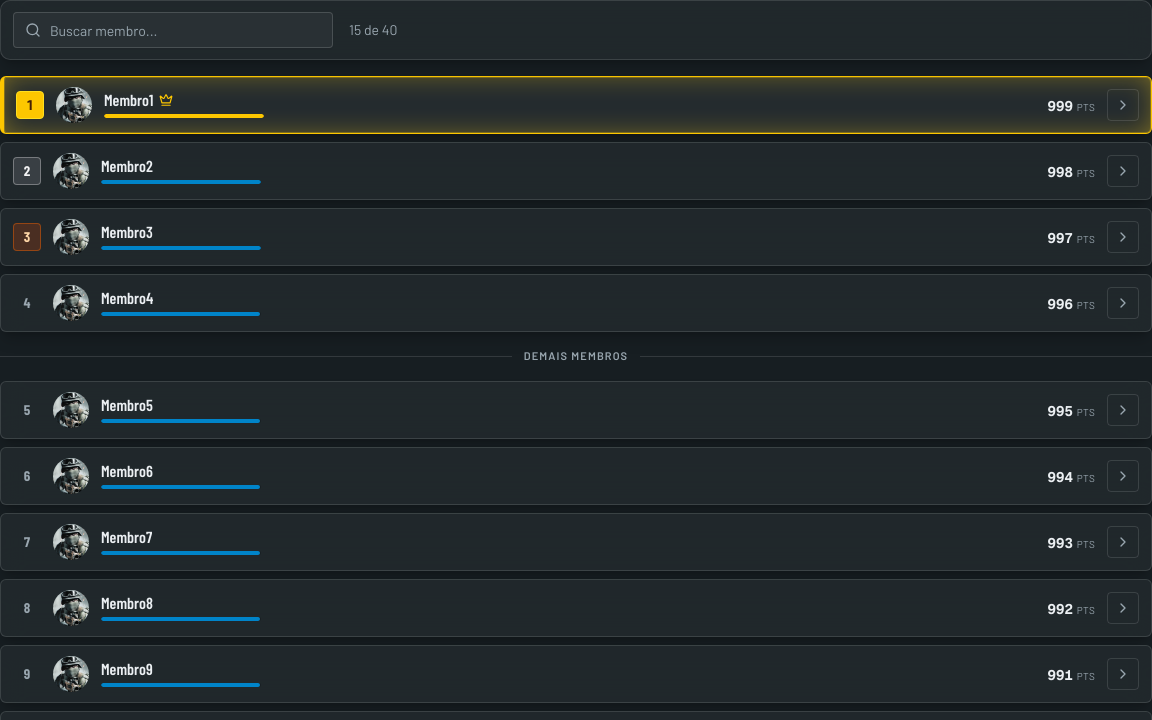
Scenario: RankingList › filters as the visitor types and keeps each member's rank
This screenshot has width=1152, height=720.
In the search field labelled "Buscar membro...": (173, 30) x1=13 y1=12 x2=333 y2=48, type "membro23"
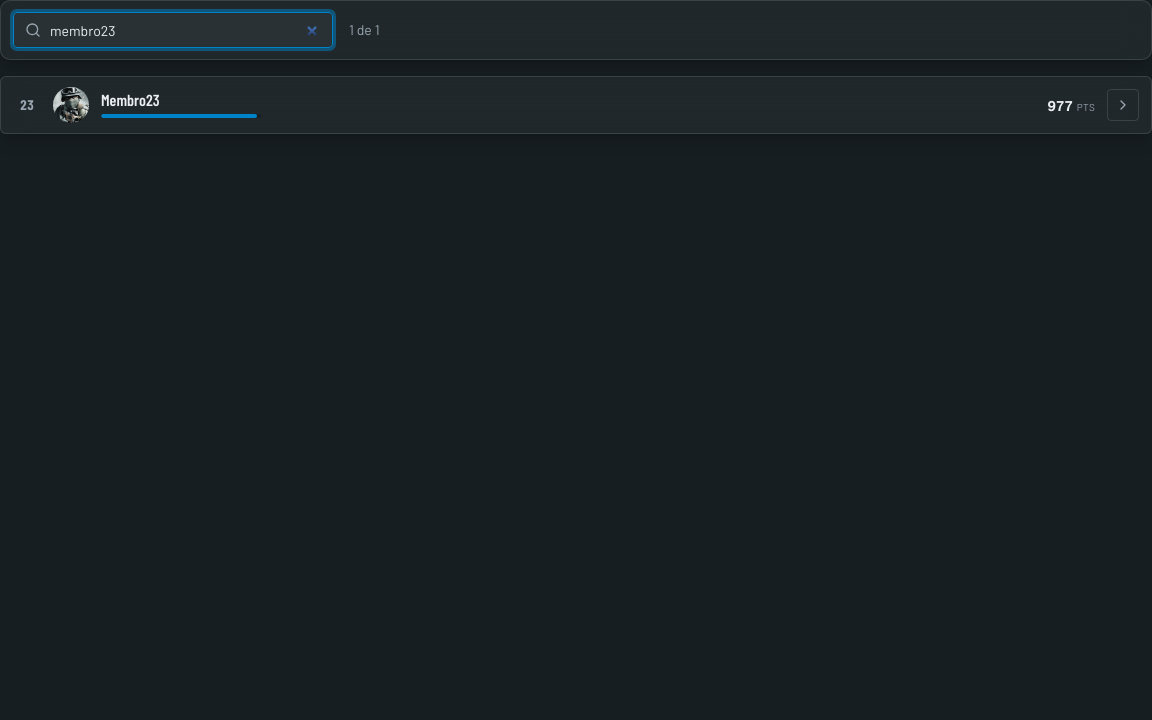
Now the message reads "1 de 1", box x1=349 y1=20 x2=380 y2=40
Now the text "Membro23" is shown, box x1=101 y1=92 x2=160 y2=108
Now the text "23" is shown, box x1=20 y1=96 x2=34 y2=113
